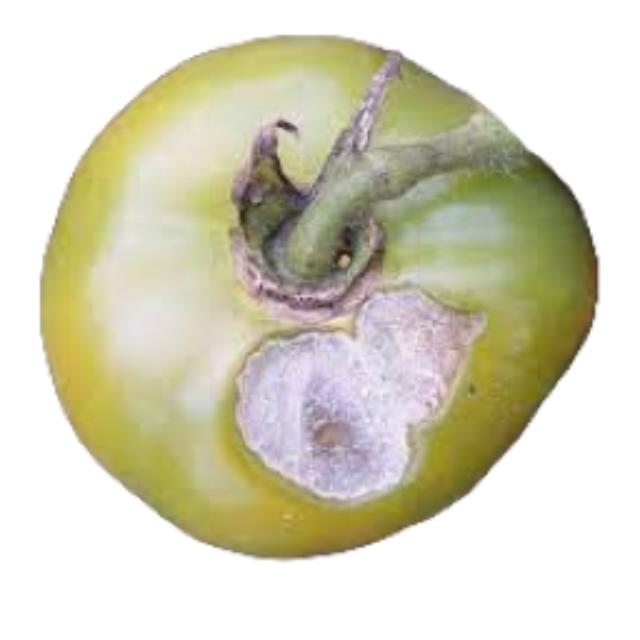defect: (34, 27, 601, 560)
